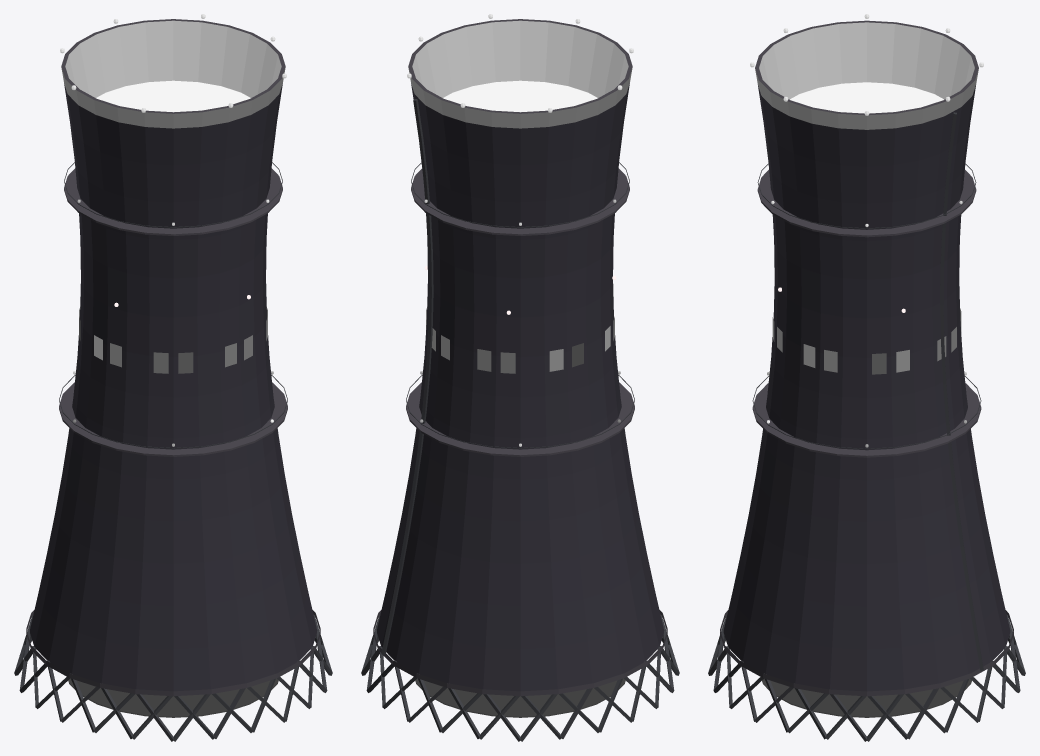
File: cond_stack_c.glb
The picture shows the model from 3 angles, left to right: view 1: azimuth 30°, elevation 25°; view 2: azimuth 150°, elevation 25°; view 3: azimuth 270°, elevation 25°; orthographic projection.
Visible parts, largest first — view 1: cond_stack_c; view 2: cond_stack_c; view 3: cond_stack_c.
Boxes of the visible parts, x1,y1,x2,y2 form: cond_stack_c: (14, 14, 332, 741); cond_stack_c: (361, 14, 679, 741); cond_stack_c: (708, 14, 1025, 741).
Size of the model in its own units: 47.53 by 101 by 47.53.
Materials: 6 (2 with a texture image).
